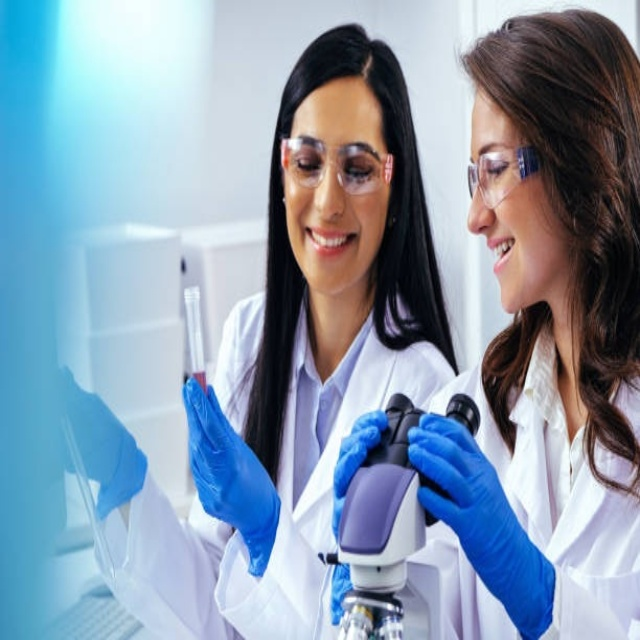Gafas: (281, 136, 393, 194), (467, 146, 542, 209)
Guantes: (408, 406, 554, 631), (179, 373, 276, 568), (60, 362, 150, 522), (328, 403, 387, 543)
Sin_mascara: (481, 224, 535, 307), (290, 215, 365, 268)
